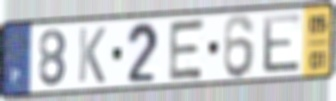2: (123, 17, 163, 88)
6: (222, 12, 257, 81)
8: (37, 28, 67, 88)
E: (166, 17, 207, 83), (261, 11, 303, 75)
K: (76, 25, 108, 85)
